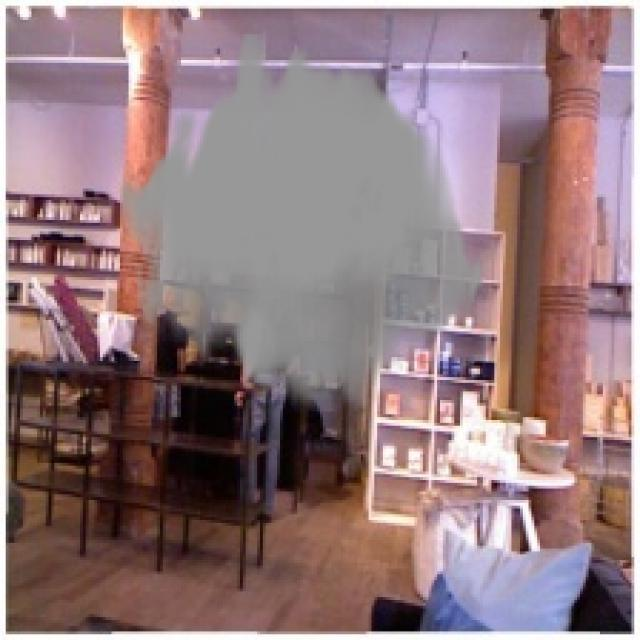Smoke: (117, 34, 486, 412)
